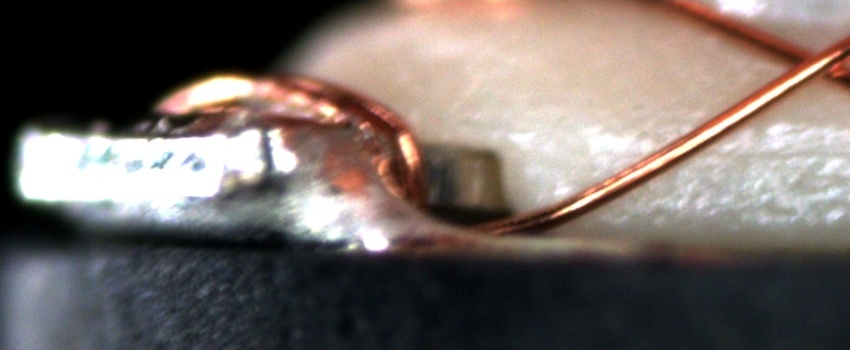CL: (765, 29, 847, 93)
DL: (619, 118, 850, 180)
TE: (160, 65, 451, 212)
